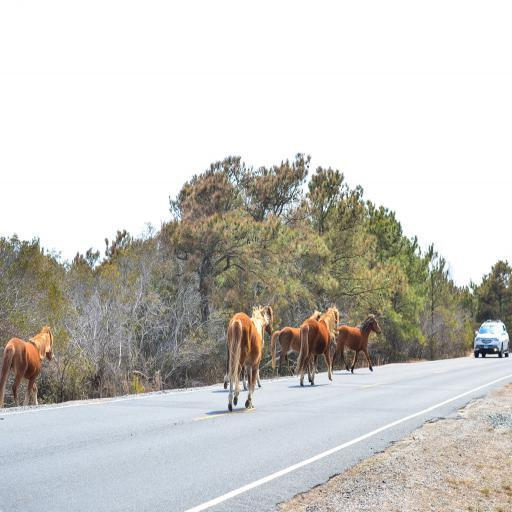horse: (226, 304, 270, 412), (0, 327, 55, 407), (294, 302, 340, 386), (330, 313, 382, 375), (271, 310, 322, 372)
